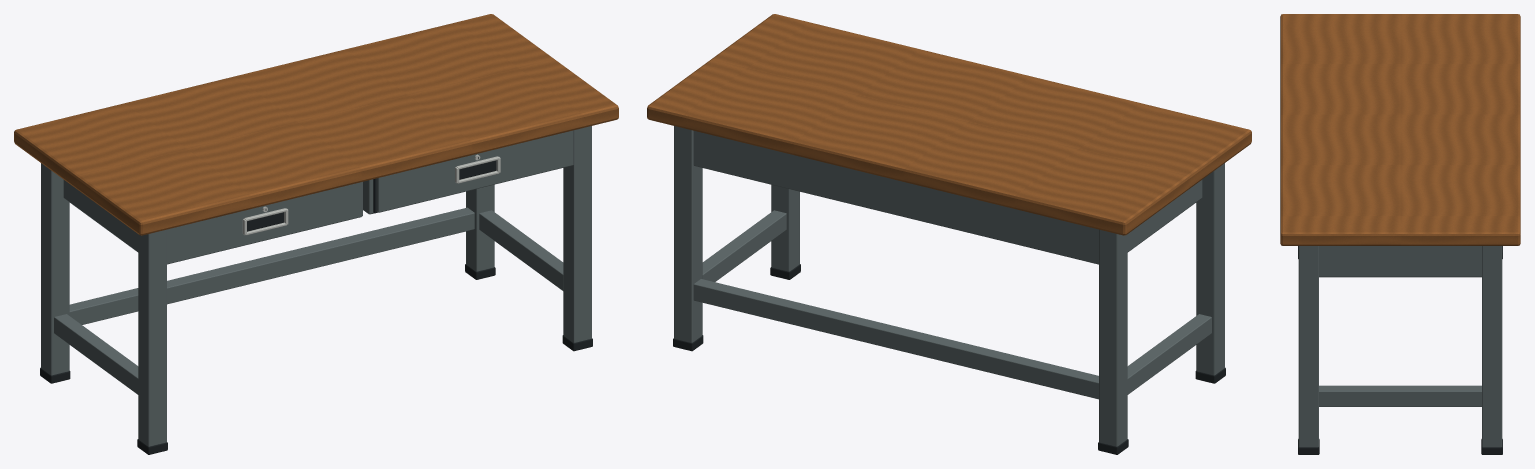
The picture shows the model from 3 angles, left to right: view 1: azimuth 30°, elevation 25°; view 2: azimuth 150°, elevation 25°; view 3: azimuth 270°, elevation 25°; orthographic projection. The views are drawn at different scales.
Visible parts, largest first — view 1: Thick wood top, Square steel leg, Dark foot cap, Pull side; view 2: Thick wood top, Square steel leg, Dark foot cap; view 3: Thick wood top, Square steel leg, Dark foot cap.
Boxes of the visible parts, x1,y1,x2,y2 form: Thick wood top: (14,14,618,235); Square steel leg: (41,126,591,446); Dark foot cap: (40,157,592,454); Pull side: (242,154,500,235); Thick wood top: (647,14,1251,235); Square steel leg: (674,126,1224,446); Dark foot cap: (673,264,1225,454); Thick wood top: (1280,14,1520,245); Square steel leg: (1298,246,1502,447); Dark foot cap: (1298,246,1502,454).
Size of the model in its own units: 1.65 by 0.802 by 0.76.
4 materials, 1 textured.
